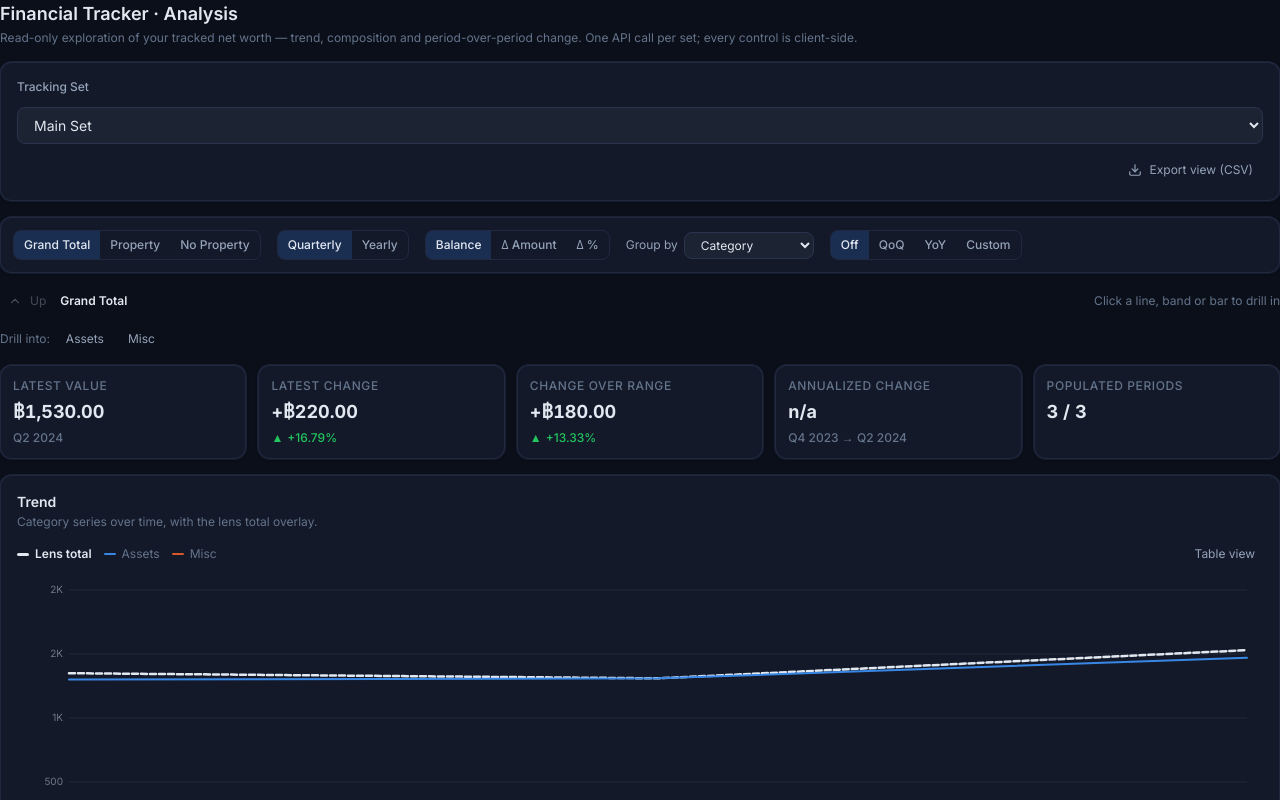
Test: Analysis page › renders no "Drill into:" row at all (not even an empty wrapper) at the deepest drill level, where no bucket carries a drillId
This screenshot has width=1280, height=800.
Expected: the heading "Trend" is shown, x1=17 y1=493 x2=56 y2=510
Click the button "Assets" next to "Drill into:": point(85, 339) x1=58 y1=329 x2=112 y2=349
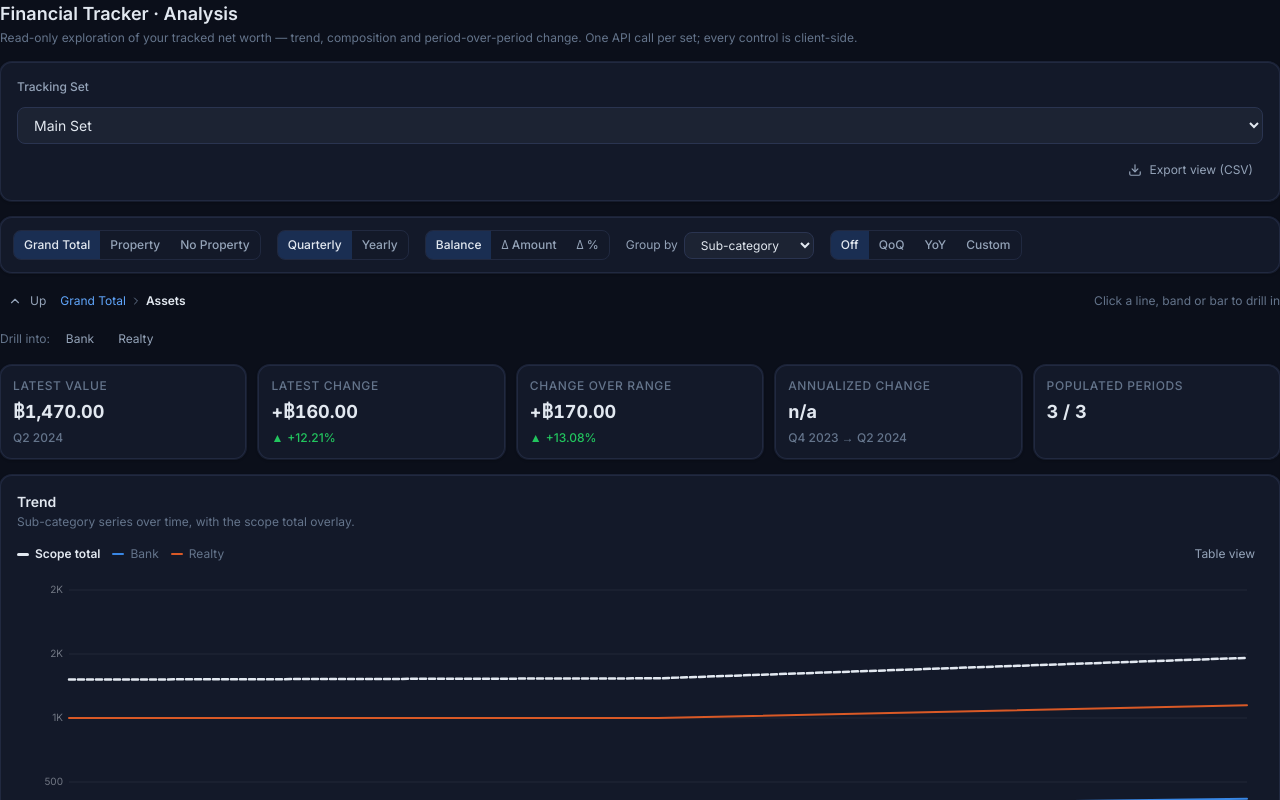
Expected: the text "Assets" is shown, x1=146 y1=293 x2=186 y2=309
Click the button "Bank" next to "Drill into:": point(80, 339) x1=58 y1=329 x2=102 y2=349
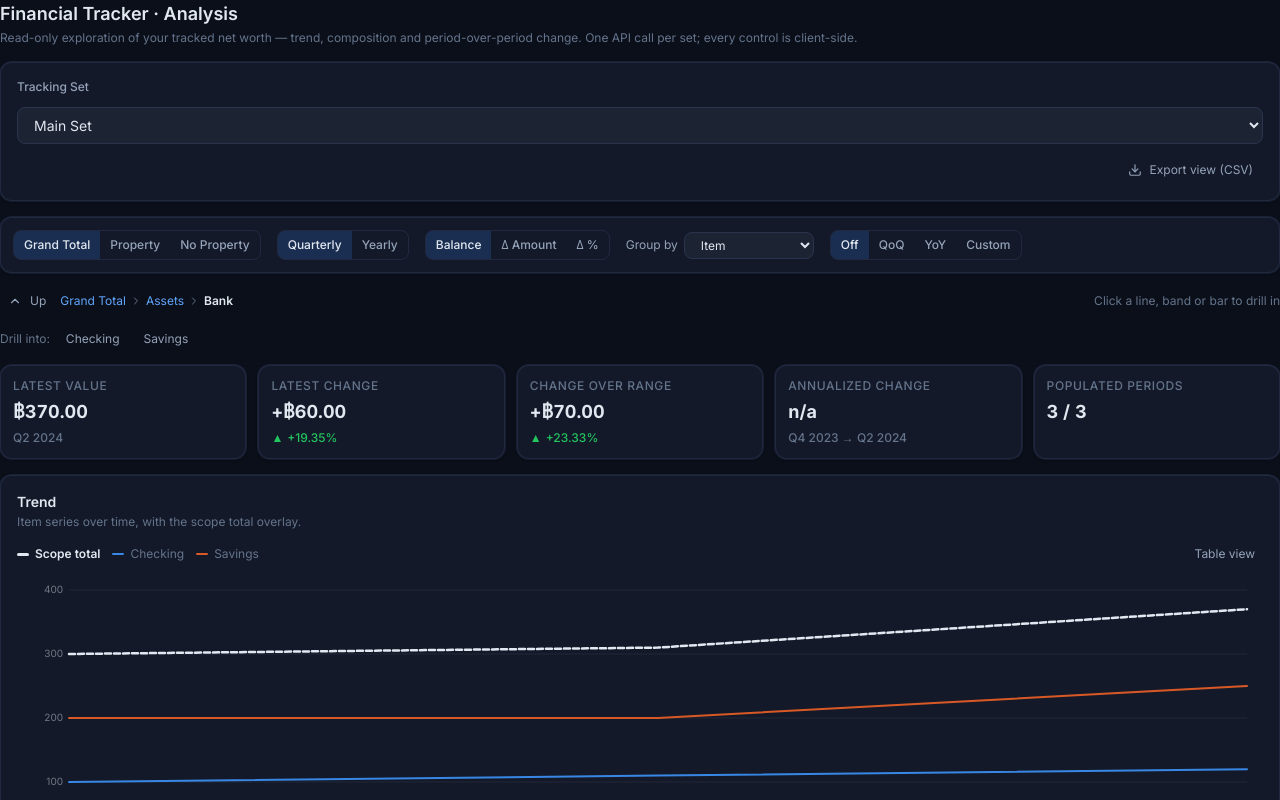
Expected: the text "Bank" is shown, x1=204 y1=293 x2=233 y2=309
Click the button "Checking" next to "Drill into:": point(93, 339) x1=58 y1=329 x2=128 y2=349
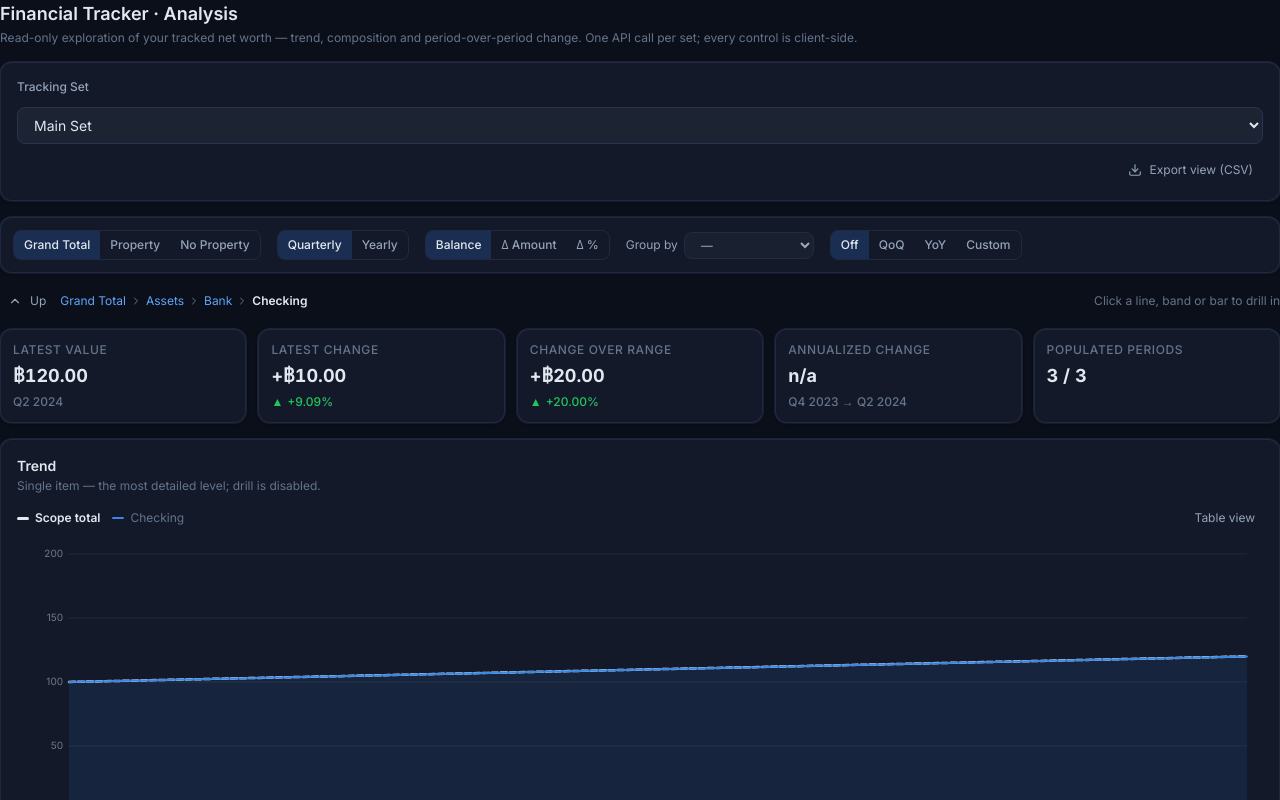
Expected: the text "Single item — the most detailed level; drill is disabled." is shown, x1=17 y1=478 x2=321 y2=494
Expected: the text "Drill into:" is gone
